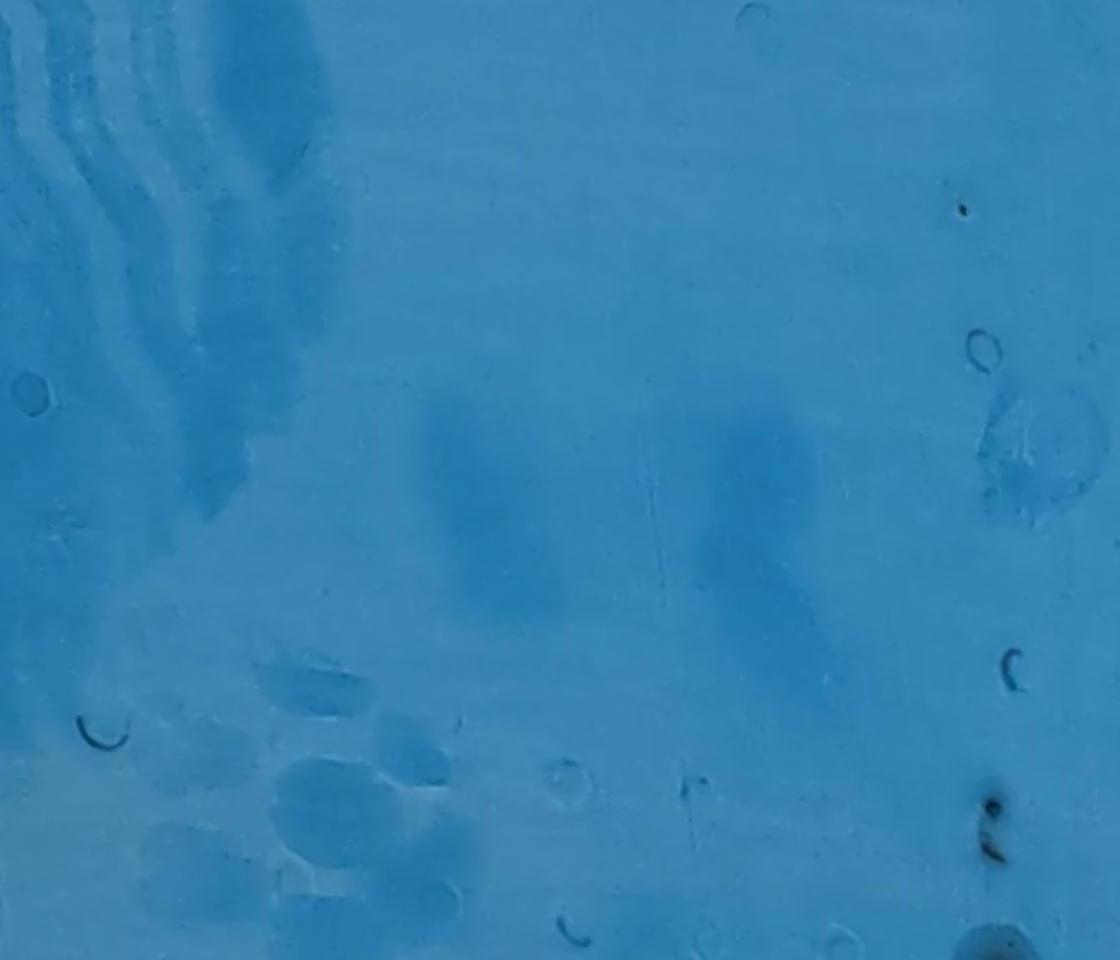scratch: (66, 710, 136, 758), (994, 646, 1034, 698)
